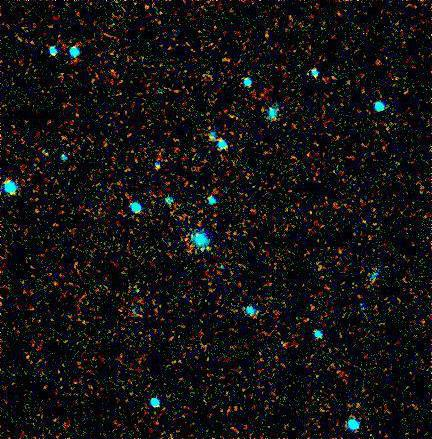star: (190, 234, 220, 264)
